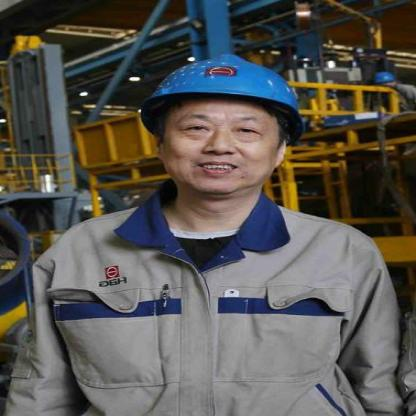helmet: (128, 45, 322, 206)
